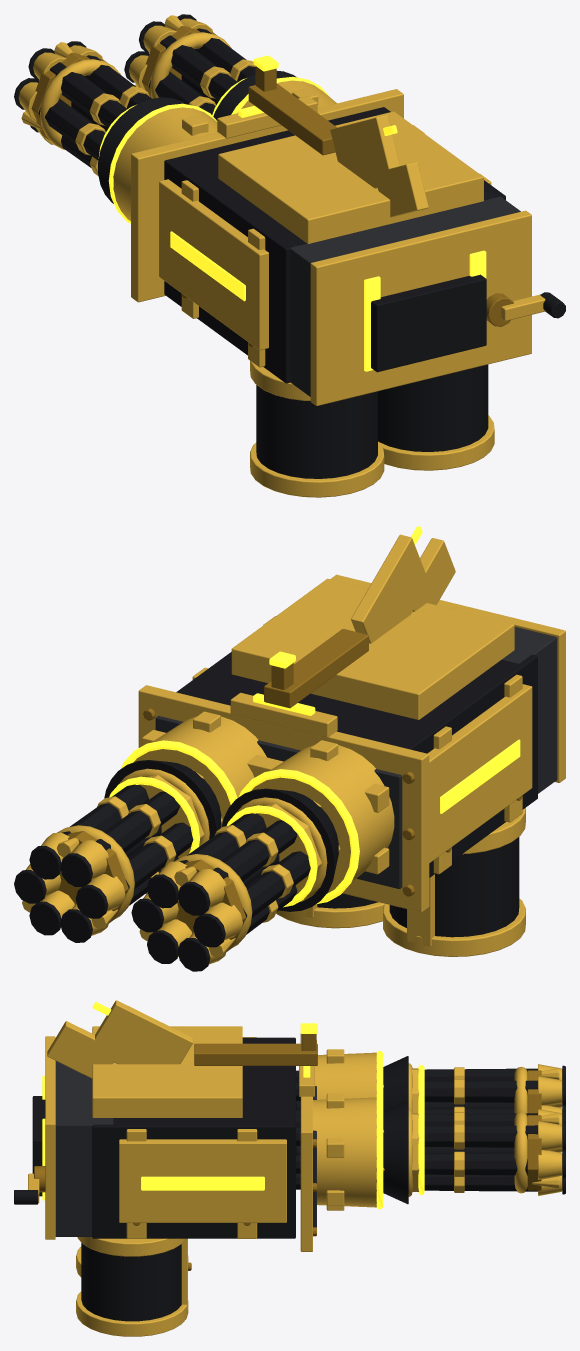
The model's file is weapon_gatling_lvl3.glb.
3 views of the same model, one above another, from view 1: azimuth 30°, elevation 25°; view 2: azimuth 150°, elevation 25°; view 3: azimuth 270°, elevation 25° (orthographic). The views are drawn at different scales.
Visible parts, largest first — view 1: body, barrels, barrels2; view 2: body, barrels, barrels2; view 3: body, barrels2, barrels.
Boxes of the visible parts, x1,y1,x2,y2 form: body: (98, 55, 565, 497); barrels: (14, 41, 151, 176); barrels2: (124, 14, 255, 115); body: (104, 526, 565, 956); barrels: (131, 799, 340, 971); barrels2: (14, 770, 222, 942); body: (14, 1000, 412, 1336); barrels2: (296, 1109, 565, 1195); barrels: (296, 1064, 565, 1115).
Size of the model in its own units: 0.58 by 0.7356 by 1.25.
